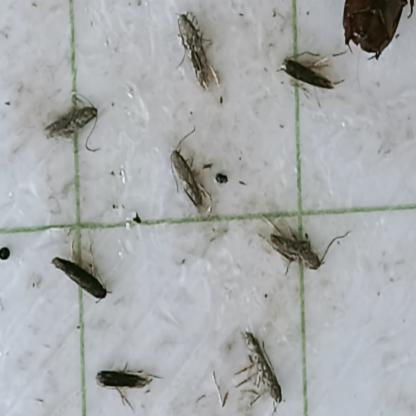prays_oleae: (44, 72, 112, 164), (267, 38, 341, 112), (240, 312, 297, 404), (163, 138, 216, 230), (42, 246, 116, 306), (263, 209, 323, 277), (171, 11, 220, 92), (91, 359, 168, 398)
